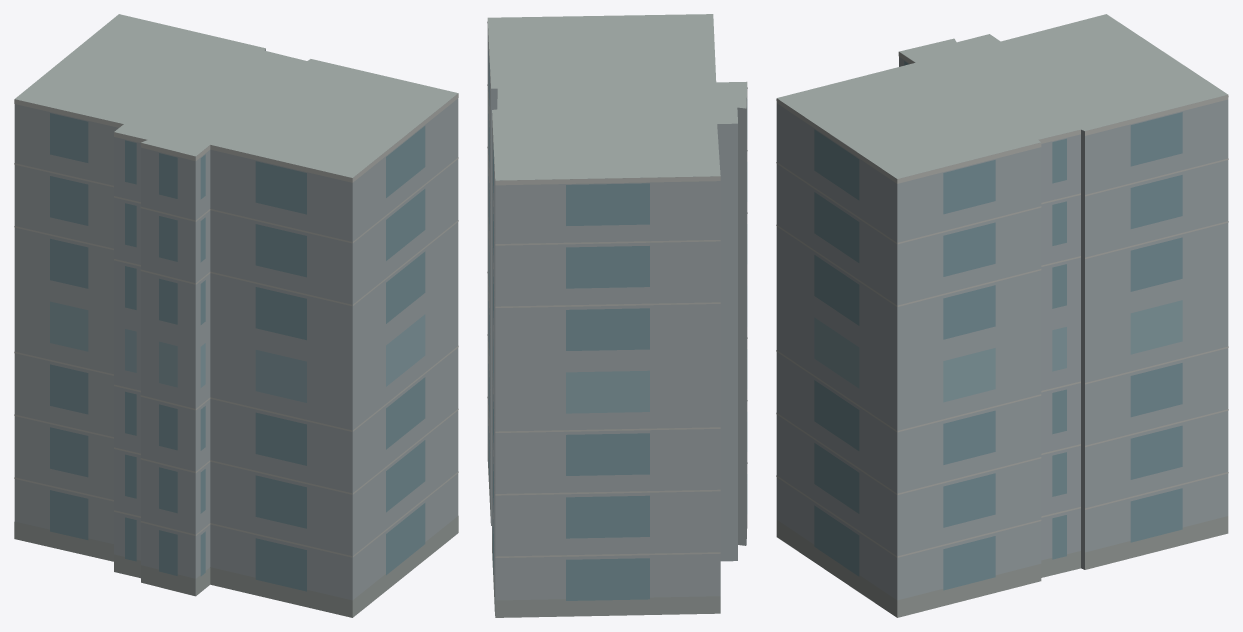
The model's file is survey-upis-32763610.glb.
3 views of the same model, side by side, from view 1: azimuth 30°, elevation 25°; view 2: azimuth 150°, elevation 25°; view 3: azimuth 270°, elevation 25° (orthographic).
Parts seen in each view (by area): view 1: survey-upis-32763610.tmp; view 2: survey-upis-32763610.tmp; view 3: survey-upis-32763610.tmp.
Part boxes in pixels (bbox=[...]): survey-upis-32763610.tmp: bbox=[14, 14, 458, 617]; survey-upis-32763610.tmp: bbox=[487, 14, 747, 617]; survey-upis-32763610.tmp: bbox=[776, 14, 1228, 617].
Bounding box in the file's own units: 17.94 × 22.2 × 20.74.
